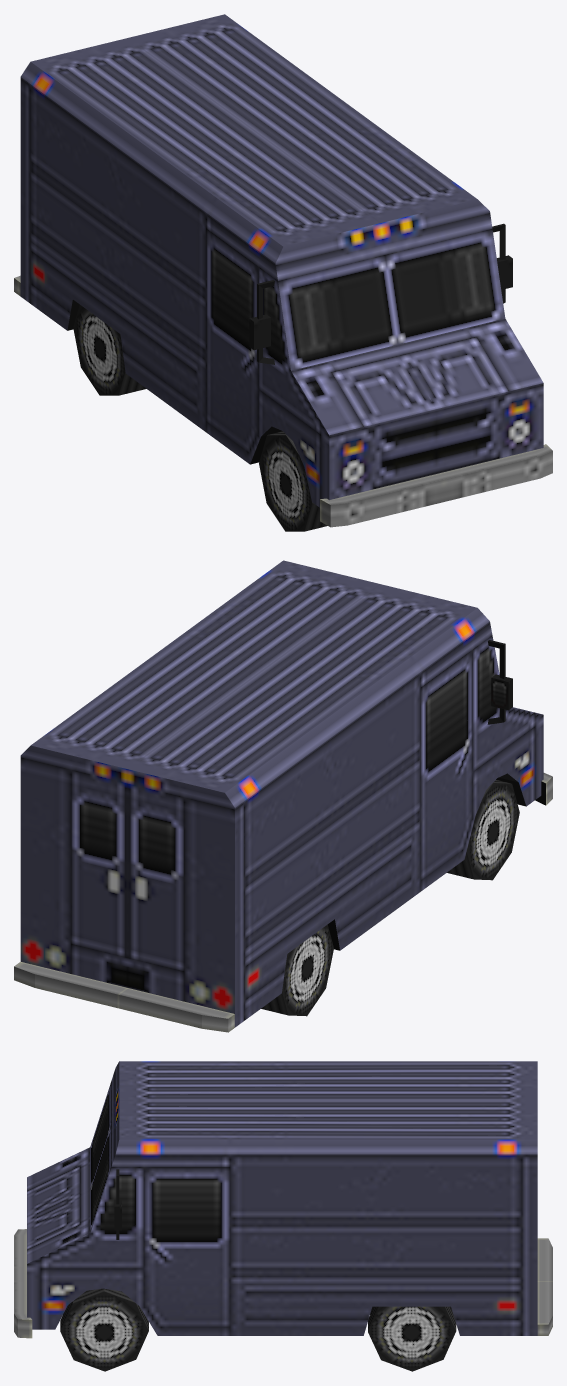
Rendered from Auto7azul.fbx.
3 views of the same model, one above another, from view 1: azimuth 30°, elevation 25°; view 2: azimuth 150°, elevation 25°; view 3: azimuth 270°, elevation 25° (orthographic). The views are drawn at different scales.
Visible parts, largest first — view 1: Car8; view 2: Car8; view 3: Car8.
Boxes of the visible parts, <box> form: Car8: <box>14,14,552,531</box>; Car8: <box>14,560,552,1032</box>; Car8: <box>14,1061,552,1371</box>.
Bounding box in the file's own units: 317 × 323 × 689.
